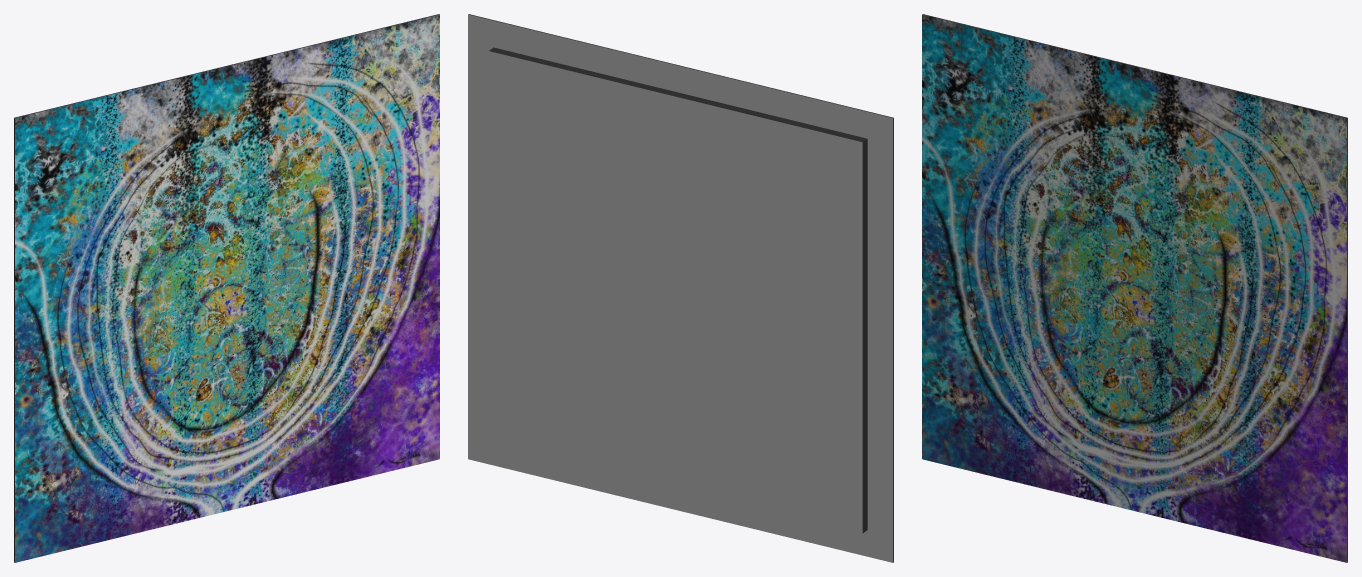
File: va176_grand_dibond.glb
The picture shows the model from 3 angles, left to right: view 1: azimuth 30°, elevation 25°; view 2: azimuth 150°, elevation 25°; view 3: azimuth 330°, elevation 25°; orthographic projection.
Visible parts, largest first — view 1: va176_grand_dibond; view 2: va176_grand_dibond; view 3: va176_grand_dibond.
Boxes of the visible parts, <box> form: va176_grand_dibond: <box>14,14,439,562</box>; va176_grand_dibond: <box>468,14,893,562</box>; va176_grand_dibond: <box>922,14,1347,562</box>.
Size of the model in its own units: 1 by 1 by 0.023.
4 materials, 1 textured.
